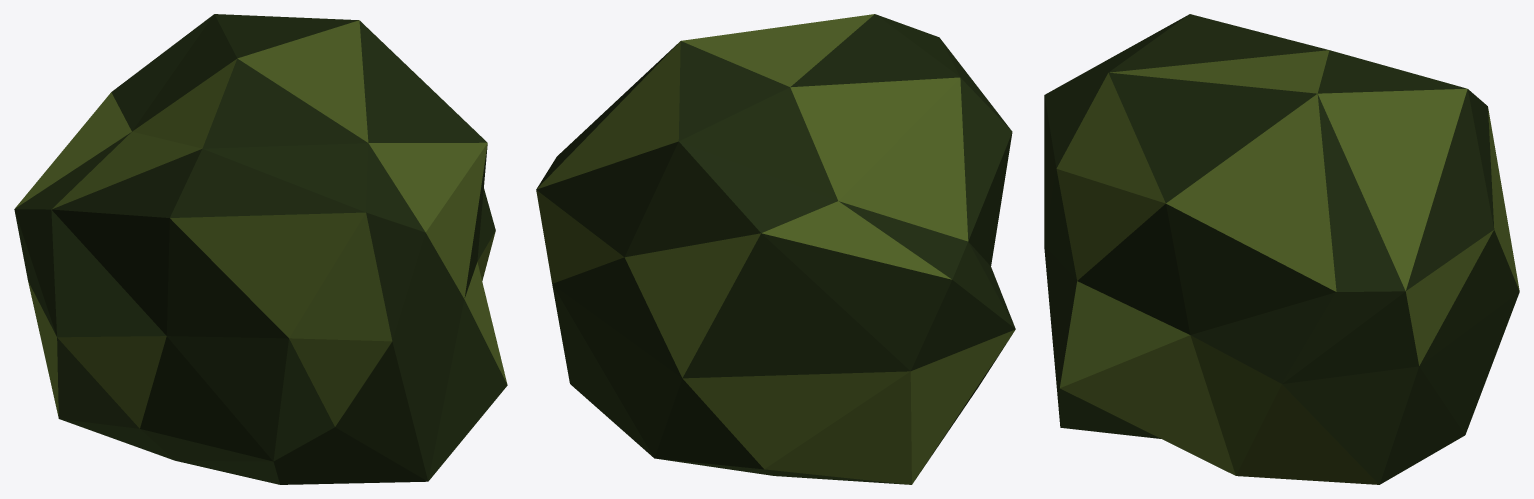
The model's file is Busch_Hintergrund.fbx.
3 views of the same model, side by side, from view 1: azimuth 30°, elevation 25°; view 2: azimuth 150°, elevation 25°; view 3: azimuth 270°, elevation 25° (orthographic). The views are drawn at different scales.
Parts seen in each view (by area): view 1: Icosphere; view 2: Icosphere; view 3: Icosphere.
Boxes of the visible parts, bbox=[...] form: Icosphere: bbox=[14, 14, 507, 484]; Icosphere: bbox=[536, 14, 1015, 484]; Icosphere: bbox=[1044, 14, 1519, 484].
Bounding box in the file's own units: 190 × 159 × 174.
